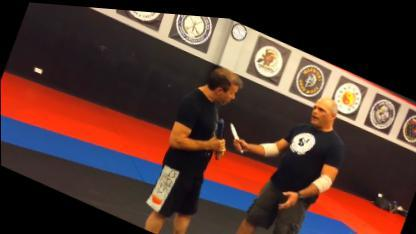knife: (219, 115, 252, 152)
